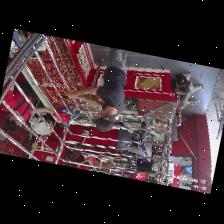person: (65, 48, 127, 130), (3, 84, 35, 120), (75, 164, 93, 170)
